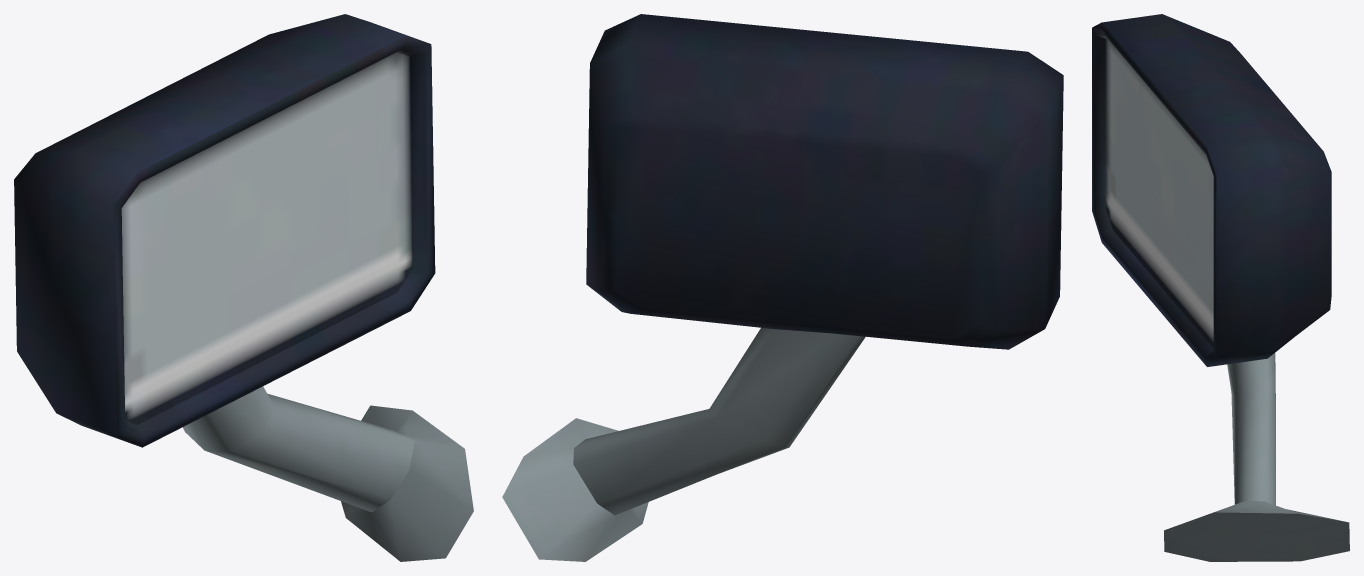
File: part_7_mirror_l.fbx
The picture shows the model from 3 angles, left to right: view 1: azimuth 30°, elevation 25°; view 2: azimuth 150°, elevation 25°; view 3: azimuth 270°, elevation 25°; orthographic projection. The views are drawn at different scales.
Visible parts, largest first — view 1: part_7_mirror_l.001; view 2: part_7_mirror_l.001; view 3: part_7_mirror_l.001.
Boxes of the visible parts, <box> form: part_7_mirror_l.001: <box>14,14,473,561</box>; part_7_mirror_l.001: <box>502,14,1063,561</box>; part_7_mirror_l.001: <box>1092,14,1349,561</box>.
Size of the model in its own units: 13.98 by 15.54 by 8.73.
